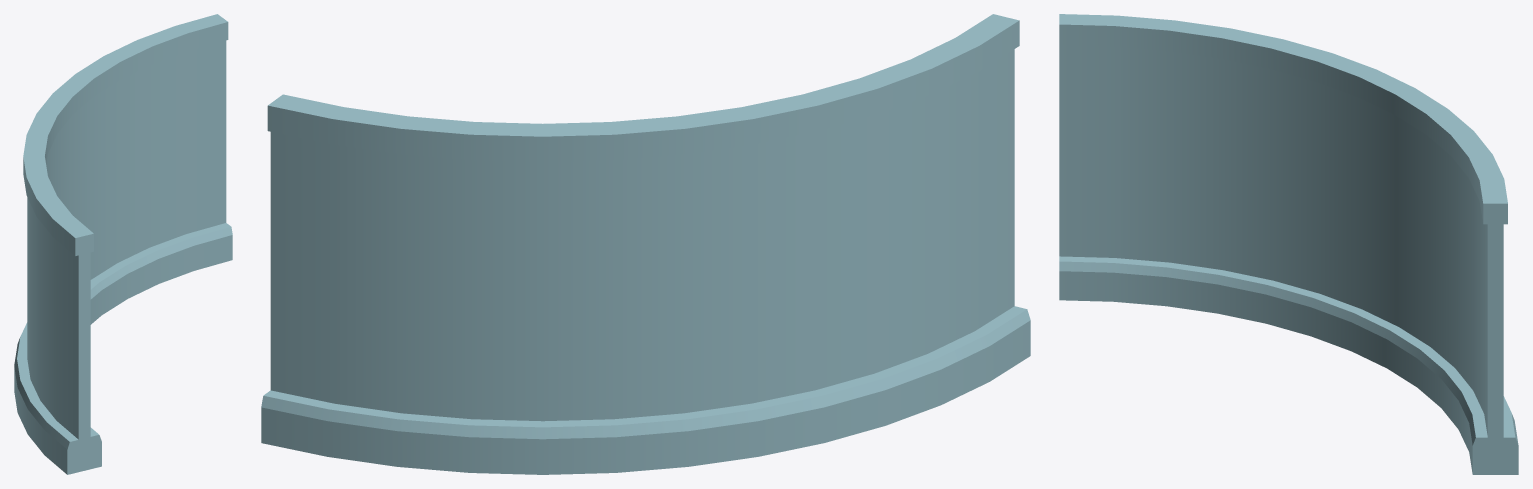
Rendered from stoneWallCurve.fbx.
3 views of the same model, side by side, from view 1: azimuth 30°, elevation 25°; view 2: azimuth 150°, elevation 25°; view 3: azimuth 270°, elevation 25° (orthographic). The views are drawn at different scales.
Parts seen in each view (by area): view 1: stoneWallCurve; view 2: stoneWallCurve; view 3: stoneWallCurve.
Part boxes in pixels (x1,y1,x2,y2): stoneWallCurve: (14, 14, 232, 474); stoneWallCurve: (261, 14, 1030, 474); stoneWallCurve: (1059, 14, 1518, 474).
Bounding box in the file's own units: 10 × 6.52 × 10.
